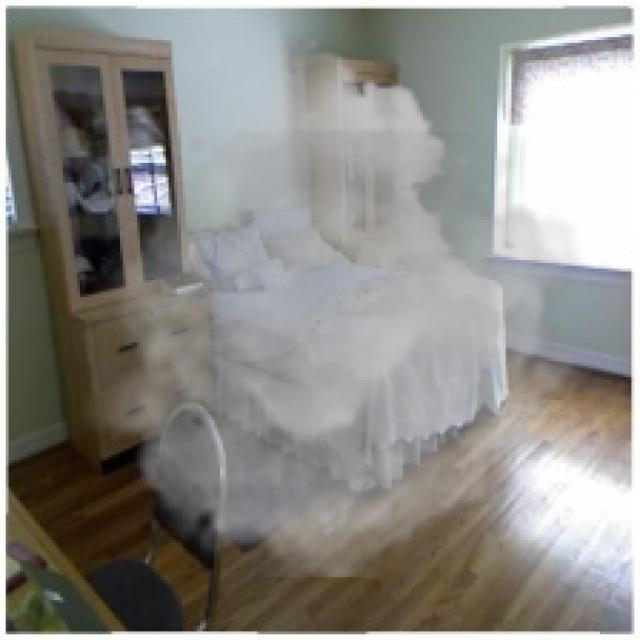Smoke: (80, 40, 597, 577)
